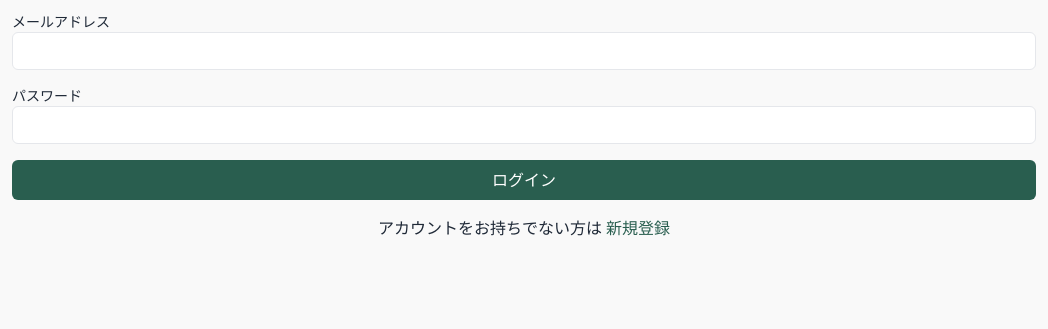
AuthForm › ログインモード › ログイン成功時にダッシュボードへリダイレクトする
The width and height of the screenshot is (1048, 329).
In the field labelled "メールアドレス": (524, 51) [12,32,1036,70], type "test@example.com"
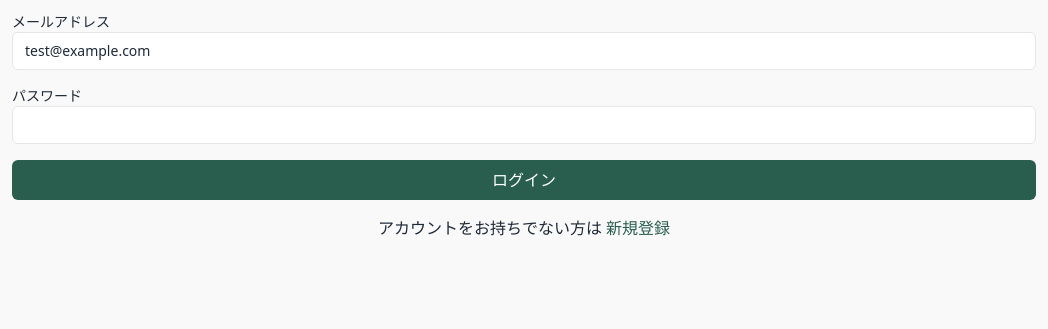
In the password field labelled "パスワード": (524, 125) [12,106,1036,144], type "password123"
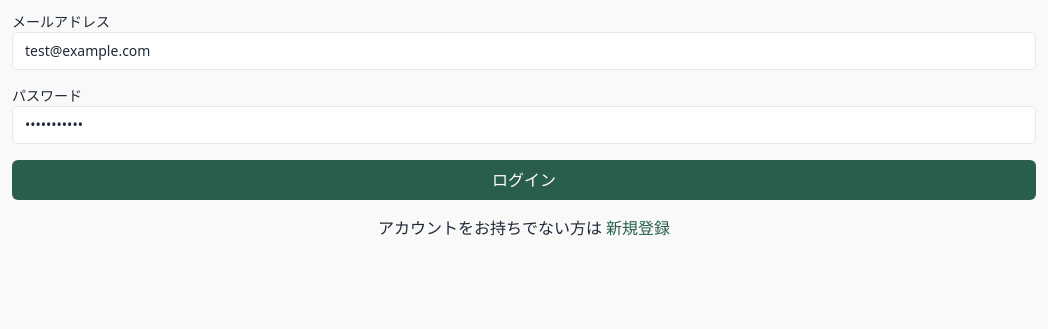
Click the button "ログイン": (524, 180) [12,160,1036,200]
Wait 1000 ms
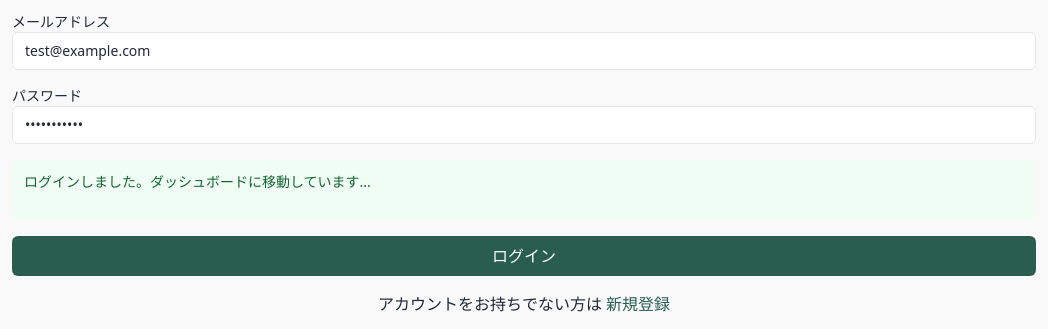
Expected: the text "ログインしました。ダッシュボードに移動しています..." is shown, [24,172,371,191]
